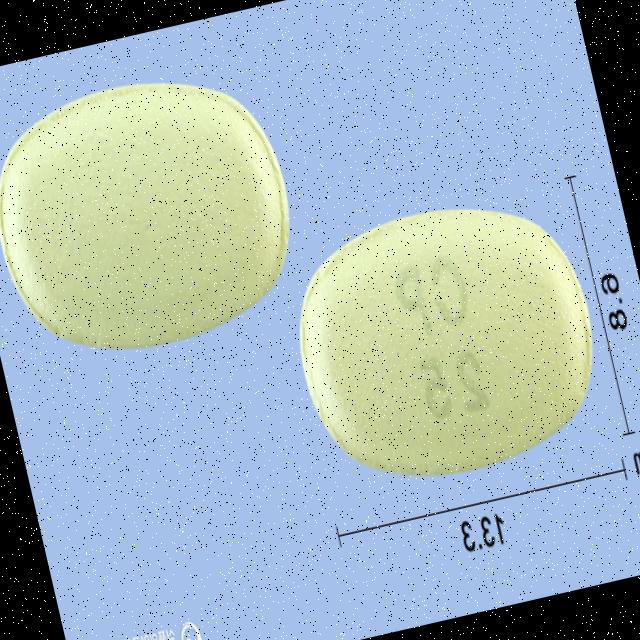Clarod: (272, 176, 621, 509), (0, 49, 313, 369)
